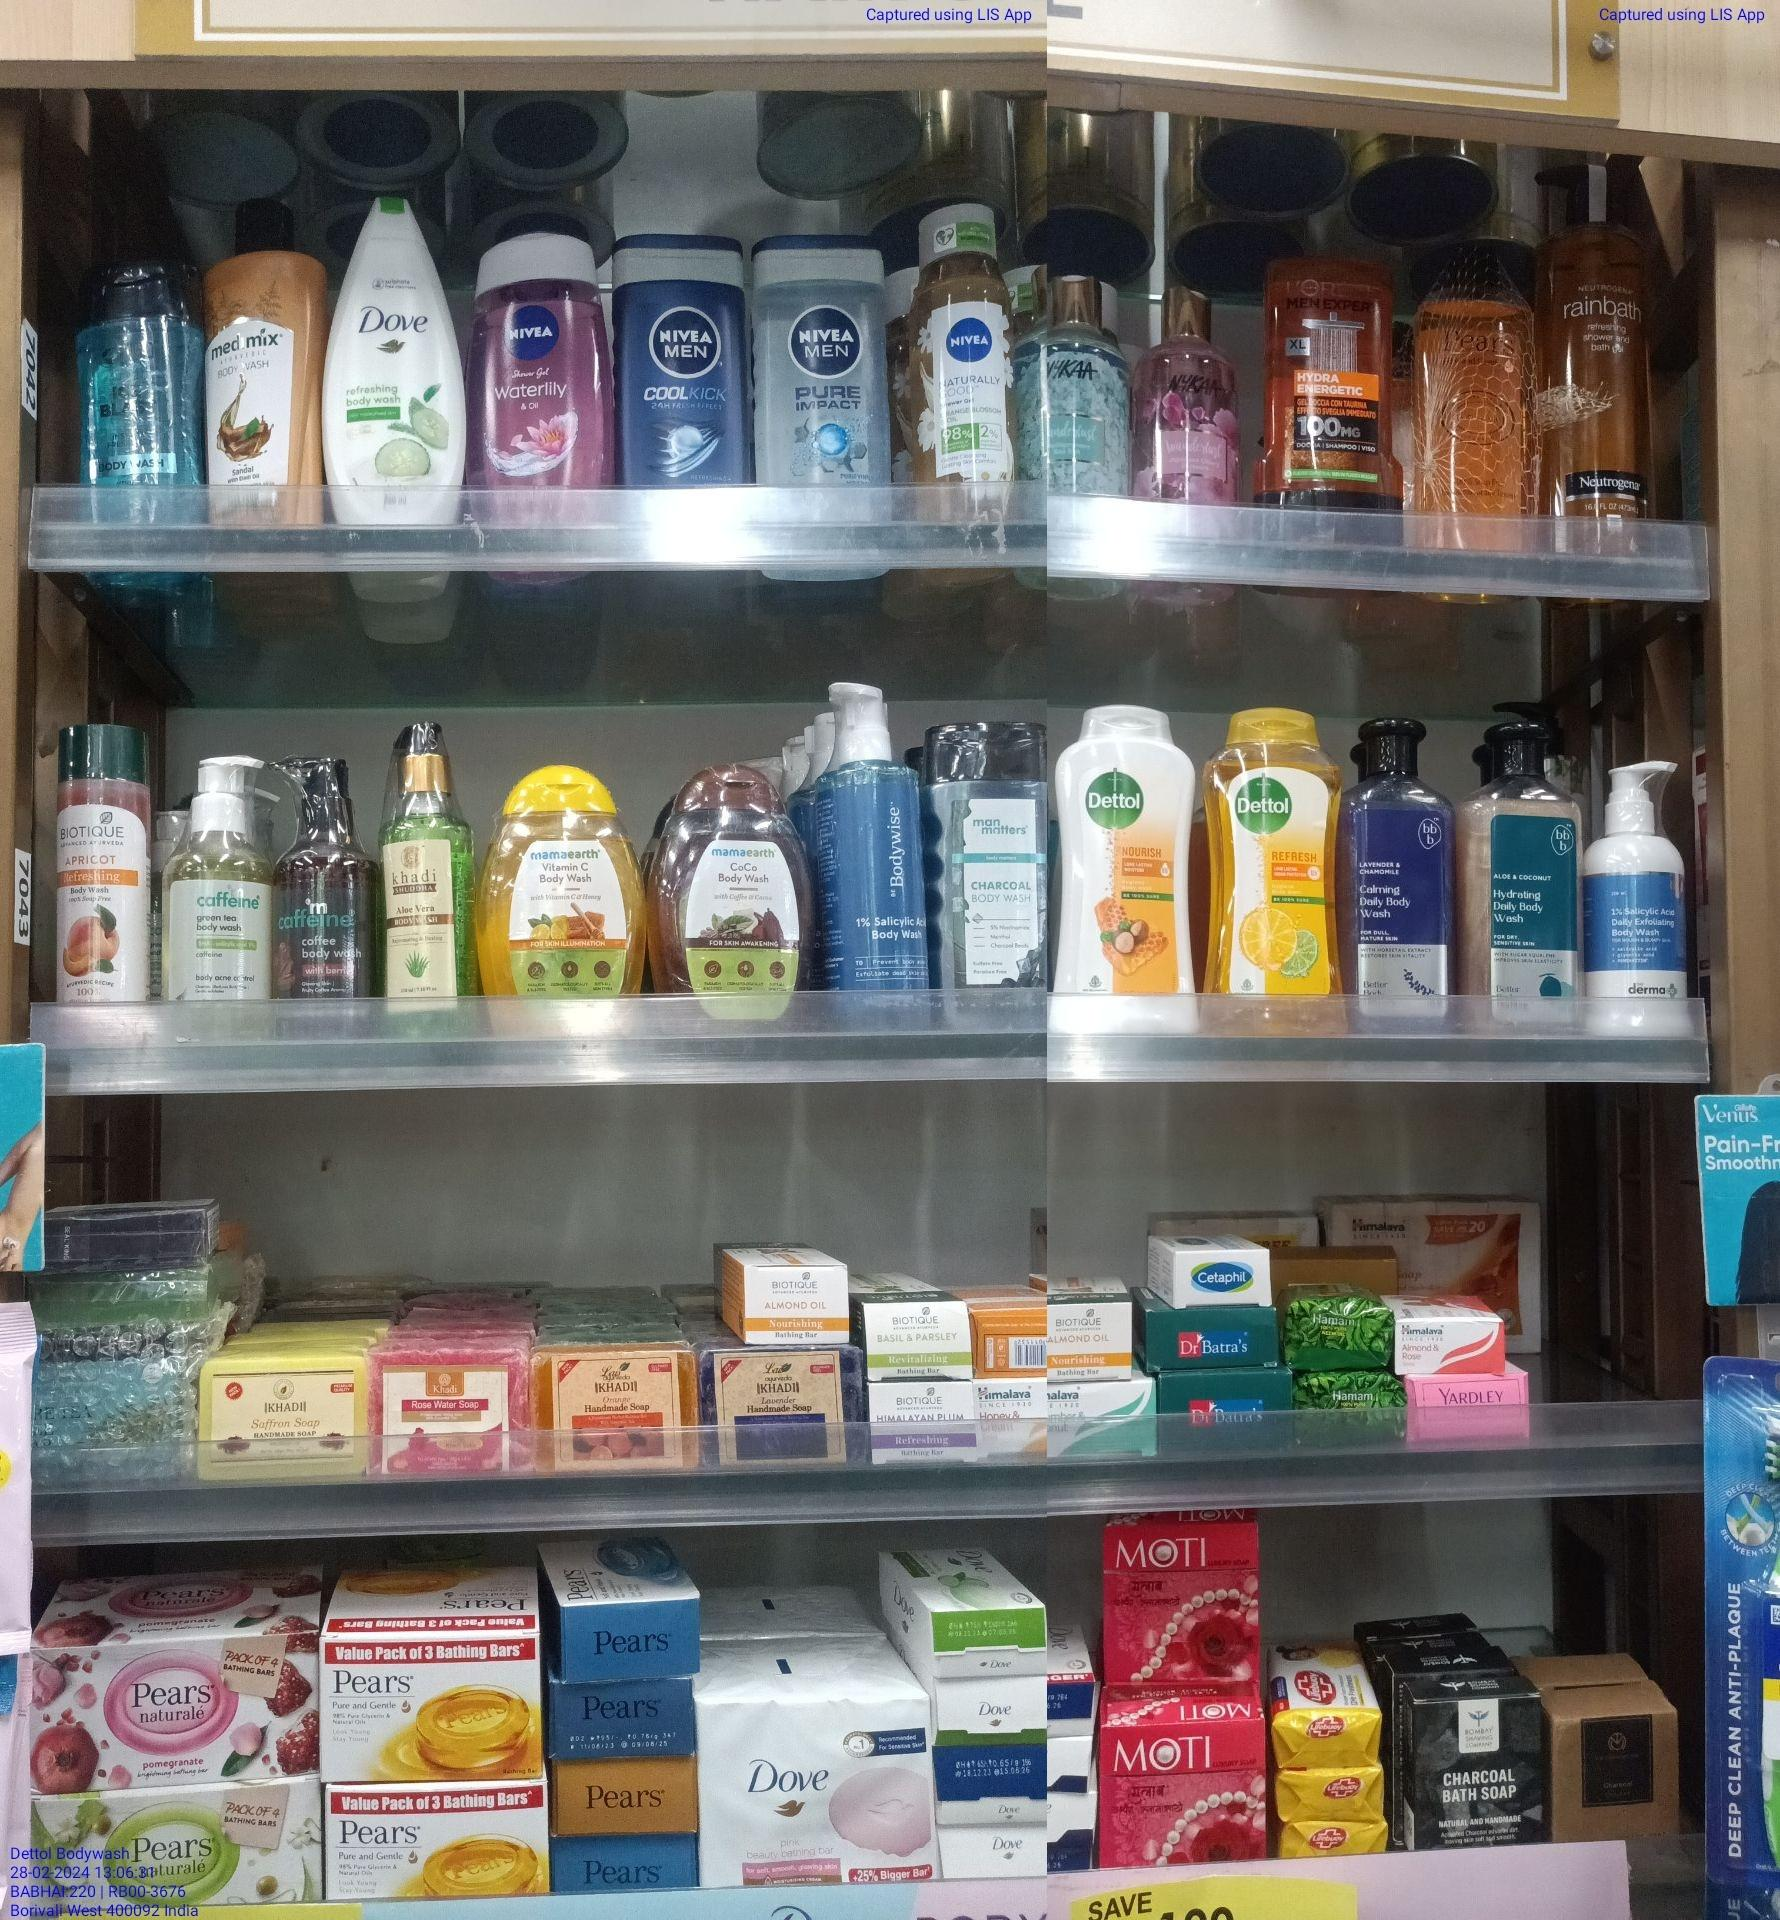Dettol_Bodywash_Refresh: (1210, 706, 1352, 1039)
Dettol_Nourish_Body_Wash_250ML: (1052, 702, 1194, 1040)
Dove_Refreshing_Body_Wash_250ML: (323, 194, 463, 527)
Nivea_Shower_Gel_Waterlily_and_Oil_250ML: (465, 212, 616, 518)
